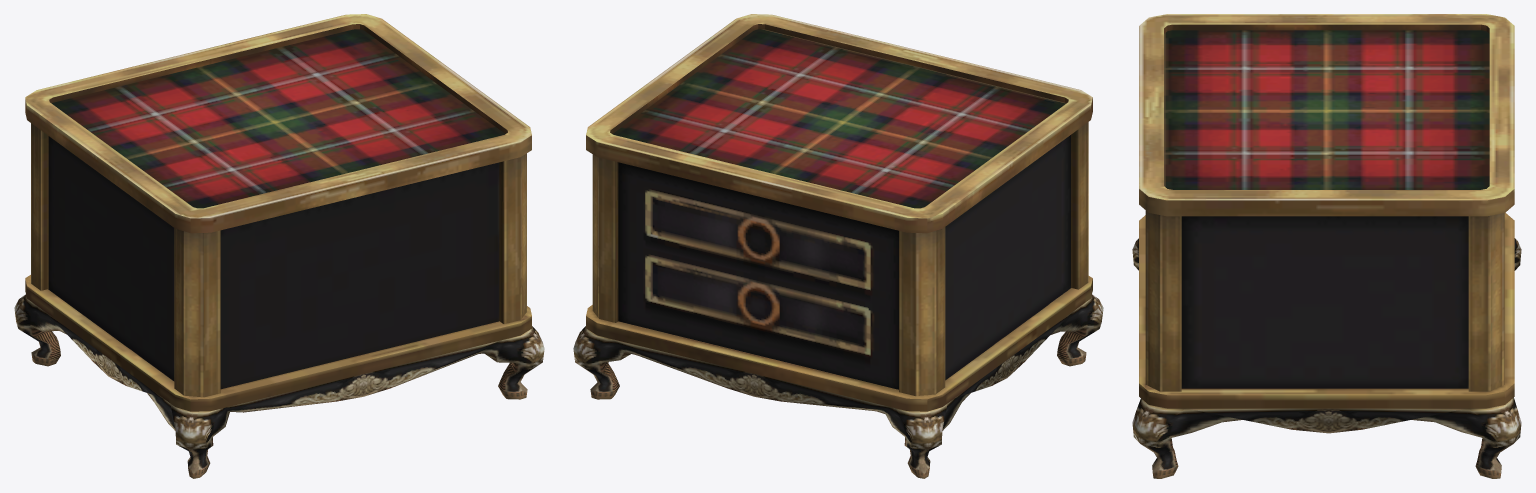
The model's file is furni_0200340_01.FBX.
3 renders of one model, left to right at view 1: azimuth 30°, elevation 25°; view 2: azimuth 150°, elevation 25°; view 3: azimuth 270°, elevation 25°, orthographic. The views are drawn at different scales.
Parts seen in each view (by area): view 1: furni_0200340; view 2: furni_0200340; view 3: furni_0200340.
Boxes of the visible parts, x1,y1,x2,y2 form: furni_0200340: [14, 14, 544, 478]; furni_0200340: [573, 14, 1103, 478]; furni_0200340: [1132, 14, 1521, 478].
Bounding box in the file's own units: 72.84 × 49.98 × 62.15.
